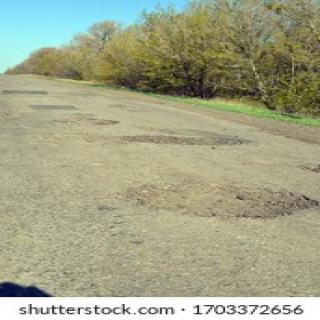pothole: (129, 188, 318, 217), (114, 134, 252, 148), (57, 118, 114, 131)
